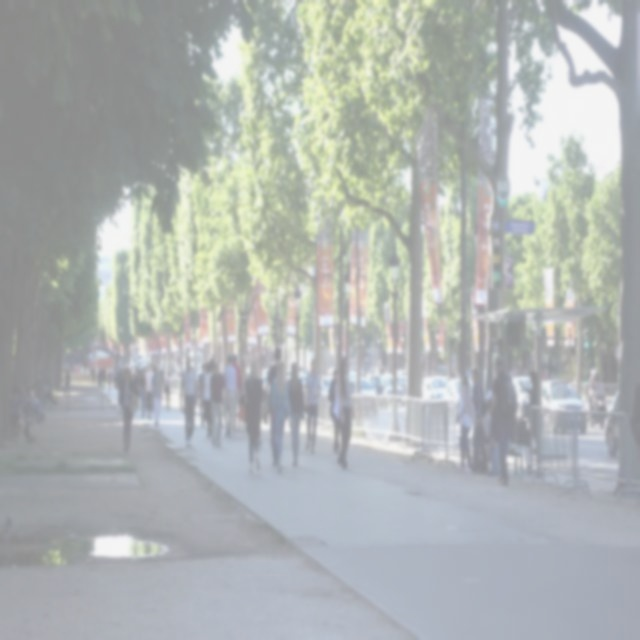pessoa: (488, 353, 518, 488), (5, 378, 58, 446), (268, 357, 293, 475), (242, 358, 264, 476), (263, 345, 284, 468), (469, 385, 496, 475), (284, 360, 306, 468), (468, 365, 489, 475), (335, 353, 354, 472), (455, 372, 476, 472), (118, 364, 140, 456), (302, 358, 322, 456), (179, 355, 200, 448), (519, 369, 537, 476), (209, 358, 227, 448), (326, 366, 344, 456), (512, 403, 534, 473), (222, 353, 238, 440), (200, 362, 213, 442), (582, 366, 602, 418), (148, 364, 164, 428), (231, 352, 243, 436), (90, 364, 126, 392), (237, 358, 250, 433), (196, 361, 208, 427), (143, 362, 155, 419), (488, 438, 501, 478), (138, 366, 147, 422), (130, 364, 140, 412), (163, 370, 172, 412), (72, 360, 90, 378), (62, 367, 72, 397), (158, 362, 164, 410), (538, 366, 556, 382)
